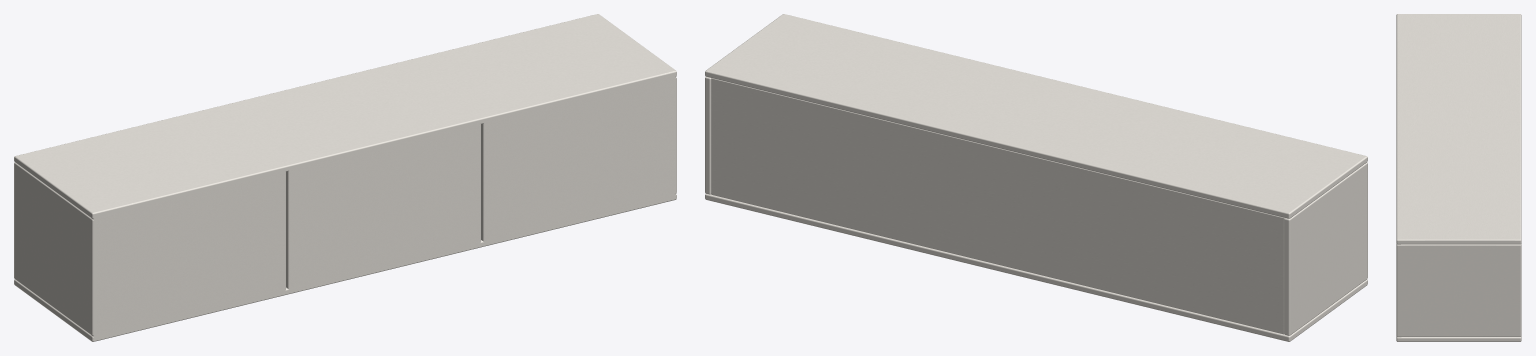
The model's file is besta-mobile.glb.
3 views of the same model, side by side, from view 1: azimuth 30°, elevation 25°; view 2: azimuth 150°, elevation 25°; view 3: azimuth 270°, elevation 25° (orthographic). The views are drawn at different scales.
Visible parts, largest first — view 1: BESTÅ TV bench with doors; view 2: BESTÅ TV bench with doors; view 3: BESTÅ TV bench with doors.
Part boxes in pixels (x1,y1,x2,y2): BESTÅ TV bench with doors: (14,14,676,341); BESTÅ TV bench with doors: (705,14,1367,341); BESTÅ TV bench with doors: (1396,14,1521,341).
Bounding box in the file's own units: 1.8 × 0.38 × 0.42.
1 material, 1 textured.
